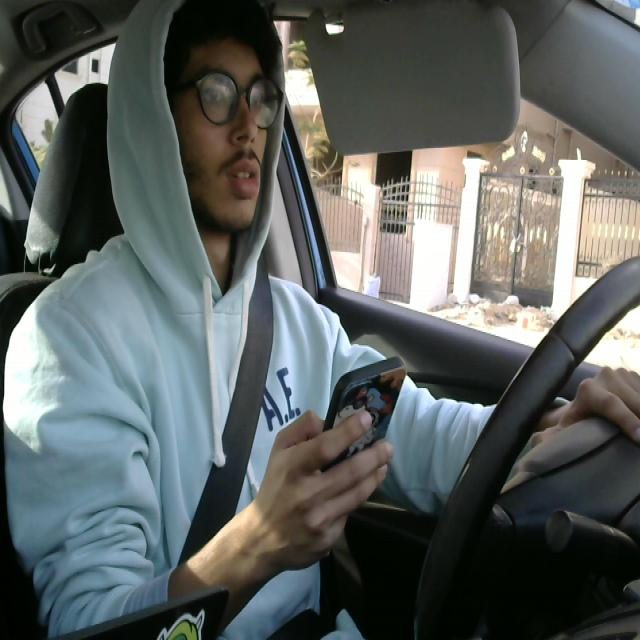mobile use: (325, 354, 412, 516)
